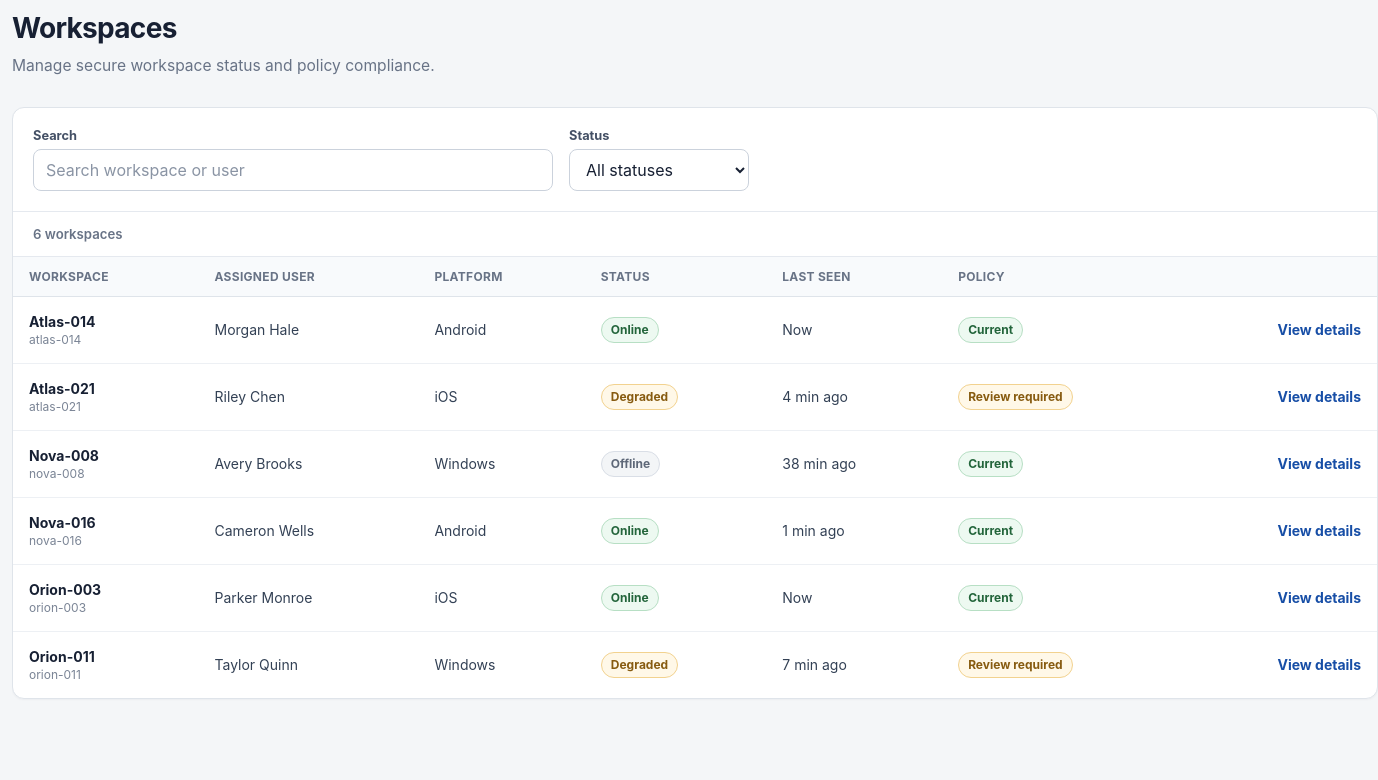
Scenario: WorkspacesPage › shows an empty state when filters return no results
Check: the text "Atlas-014" is shown, box 29,312 -> 96,330
Step 1. Type "does-not-exist" into the search field labelled "Search" → [293, 170], box 33,148 -> 553,190
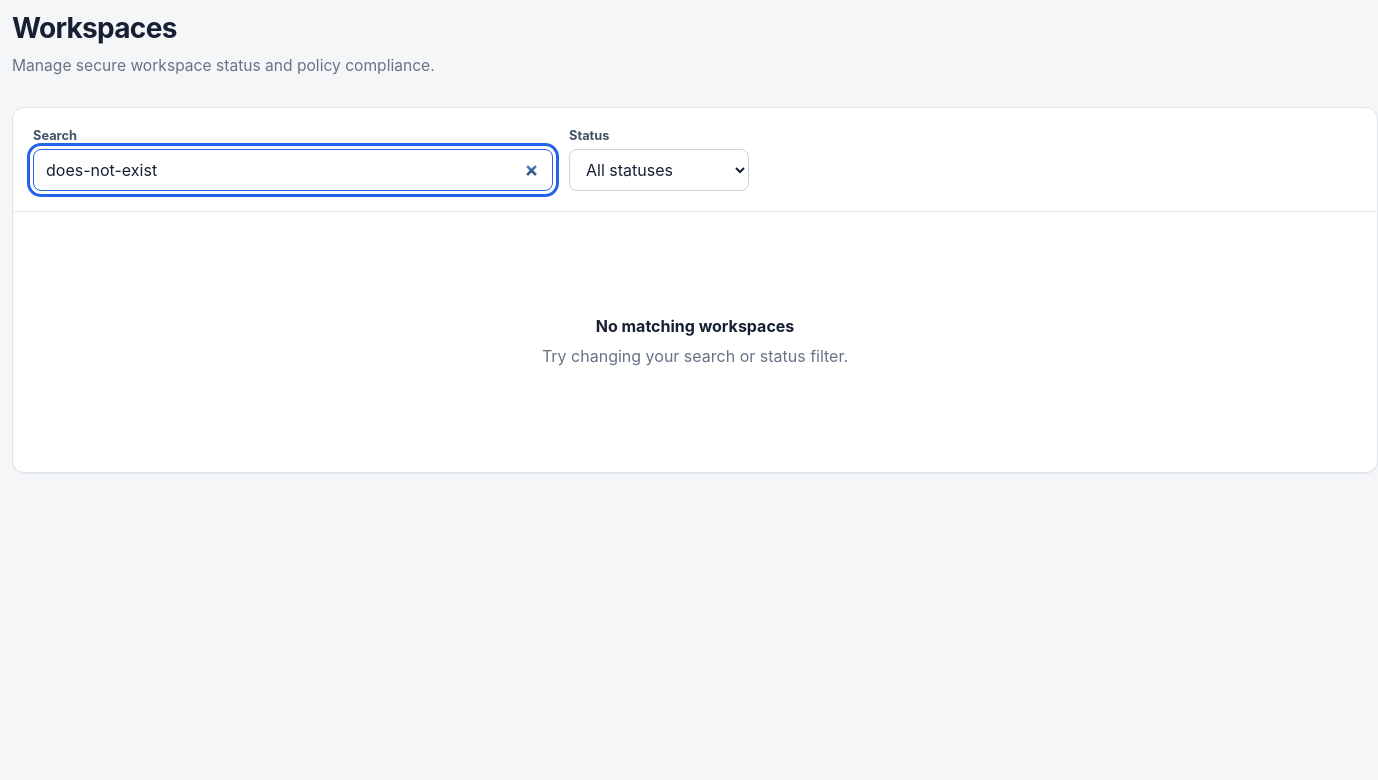
Check: the heading "No matching workspaces" is shown, box 596,316 -> 794,336
